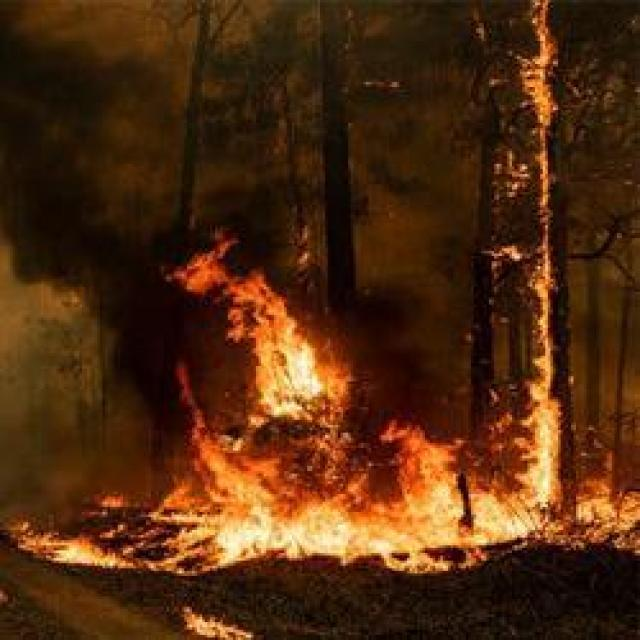Fire: (159, 380, 570, 578), (182, 235, 338, 378), (518, 0, 563, 376), (7, 504, 152, 574), (575, 478, 640, 555), (183, 607, 252, 640)
Smoke: (0, 0, 176, 364)
